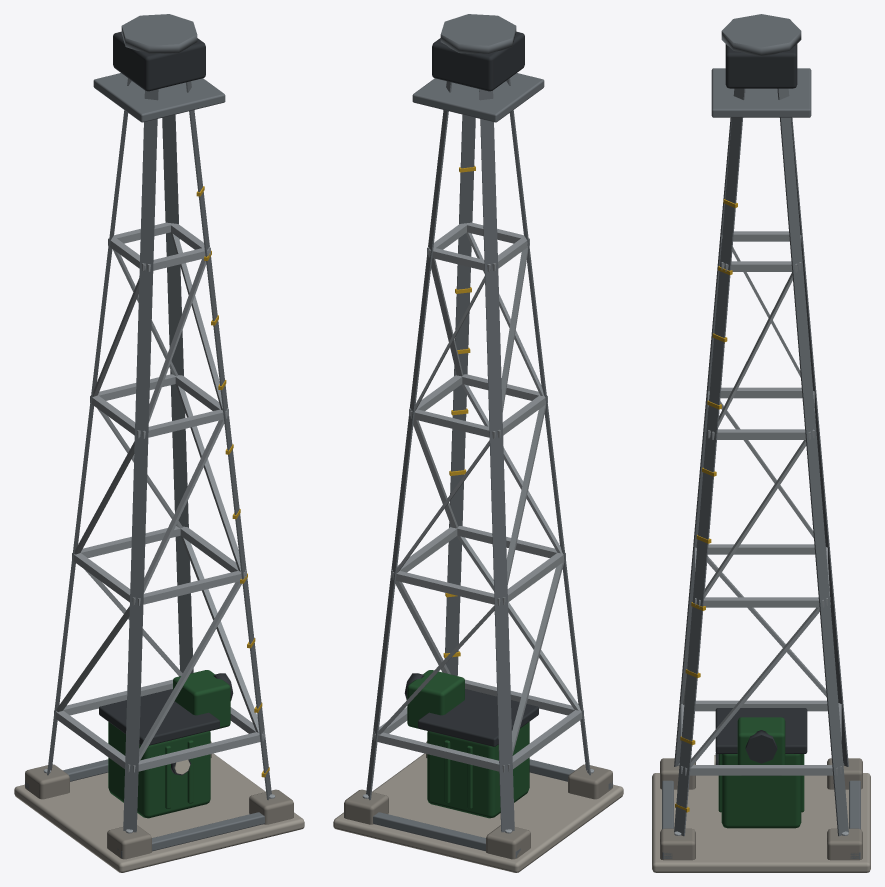
The model's file is pp_wind.glb.
3 views of the same model, side by side, from view 1: azimuth 30°, elevation 25°; view 2: azimuth 150°, elevation 25°; view 3: azimuth 270°, elevation 25° (orthographic).
Visible parts, largest first — view 1: block.001, bar, bar.002, block.010, bar.001, block.008, block.009, bar.003, block.013, cyl.001, block, block.002 (+26 smaller); view 2: block.001, bar.003, bar.001, block.010, bar.002, block.008, block.009, block.013, bar, cyl.001, block, block.003 (+28 smaller); view 3: block.001, bar.002, bar.001, block.010, block.008, block.009, cyl.001, bar.003, bar, block.013, block, bar.006 (+20 smaller).
Part boxes in pixels (left/top/right/bottom): block.001: left=14, top=753, right=304, bottom=872; bar: left=123, top=89, right=158, bottom=832; bar.002: left=162, top=114, right=193, bottom=673; block.010: left=108, top=722, right=210, bottom=818; bar.001: left=186, top=81, right=271, bottom=800; block.008: left=93, top=73, right=225, bottom=122; block.009: left=113, top=31, right=205, bottom=91; bar.003: left=47, top=78, right=131, bottom=775; block.013: left=99, top=689, right=219, bottom=745; cyl.001: left=121, top=14, right=197, bottom=53; block: left=173, top=670, right=230, bottom=730; block.002: left=117, top=812, right=264, bottom=857; block.001: left=333, top=753, right=623, bottom=872; bar.003: left=479, top=89, right=514, bottom=832; bar.001: left=444, top=114, right=475, bottom=675; block.010: left=427, top=722, right=529, bottom=818; bar.002: left=366, top=81, right=451, bottom=800; block.008: left=412, top=73, right=544, bottom=122; block.009: left=432, top=31, right=524, bottom=91; block.013: left=418, top=689, right=538, bottom=746; bar: left=506, top=78, right=590, bottom=775; cyl.001: left=440, top=14, right=516, bottom=53; block: left=407, top=670, right=464, bottom=730; block.003: left=373, top=812, right=520, bottom=857; block.001: left=652, top=773, right=870, bottom=872; bar.002: left=777, top=88, right=848, bottom=836; bar.001: left=674, top=88, right=745, bottom=836; block.010: left=721, top=754, right=801, bottom=828; block.008: left=711, top=68, right=811, bottom=117; block.009: left=725, top=44, right=797, bottom=88; cyl.001: left=721, top=14, right=801, bottom=56; bar.003: left=791, top=117, right=848, bottom=766; bar: left=674, top=117, right=731, bottom=766; block.013: left=715, top=708, right=807, bottom=753; block: left=737, top=717, right=785, bottom=775; bar.006: left=685, top=765, right=837, bottom=775.
Size of the model in its own units: 1.1 by 4.43 by 1.1.
